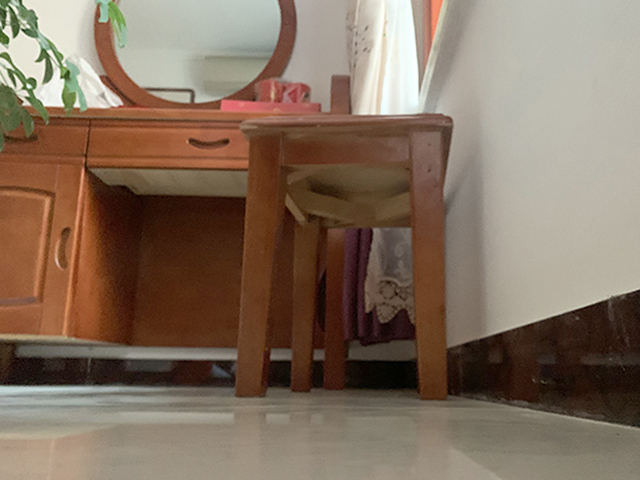stool: (233, 113, 456, 399)
table: (1, 102, 233, 385)
